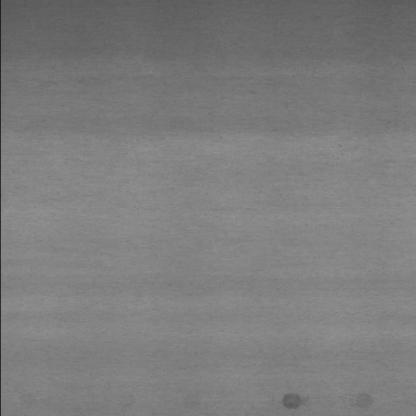oil_spot: (348, 389, 378, 412), (271, 390, 304, 410)
